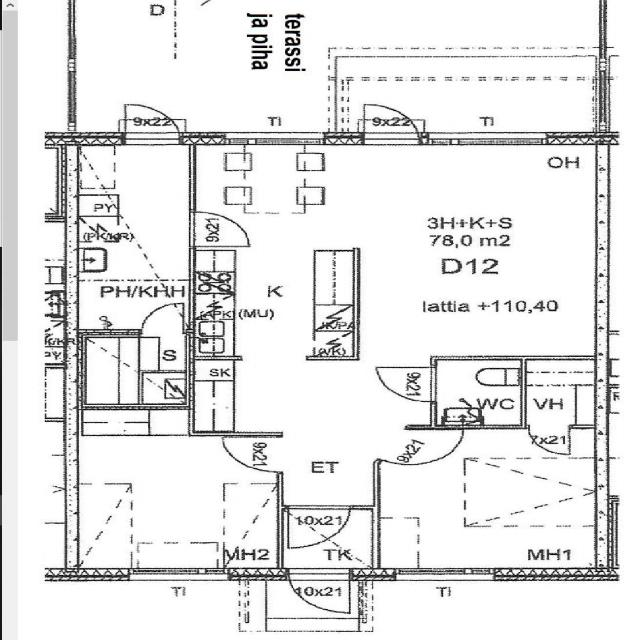door: (378, 428, 455, 476), (289, 568, 350, 620), (288, 506, 350, 549), (365, 98, 418, 145), (125, 98, 179, 144), (190, 212, 248, 247), (224, 438, 283, 472), (379, 368, 437, 402), (142, 303, 184, 334), (530, 426, 570, 456)
